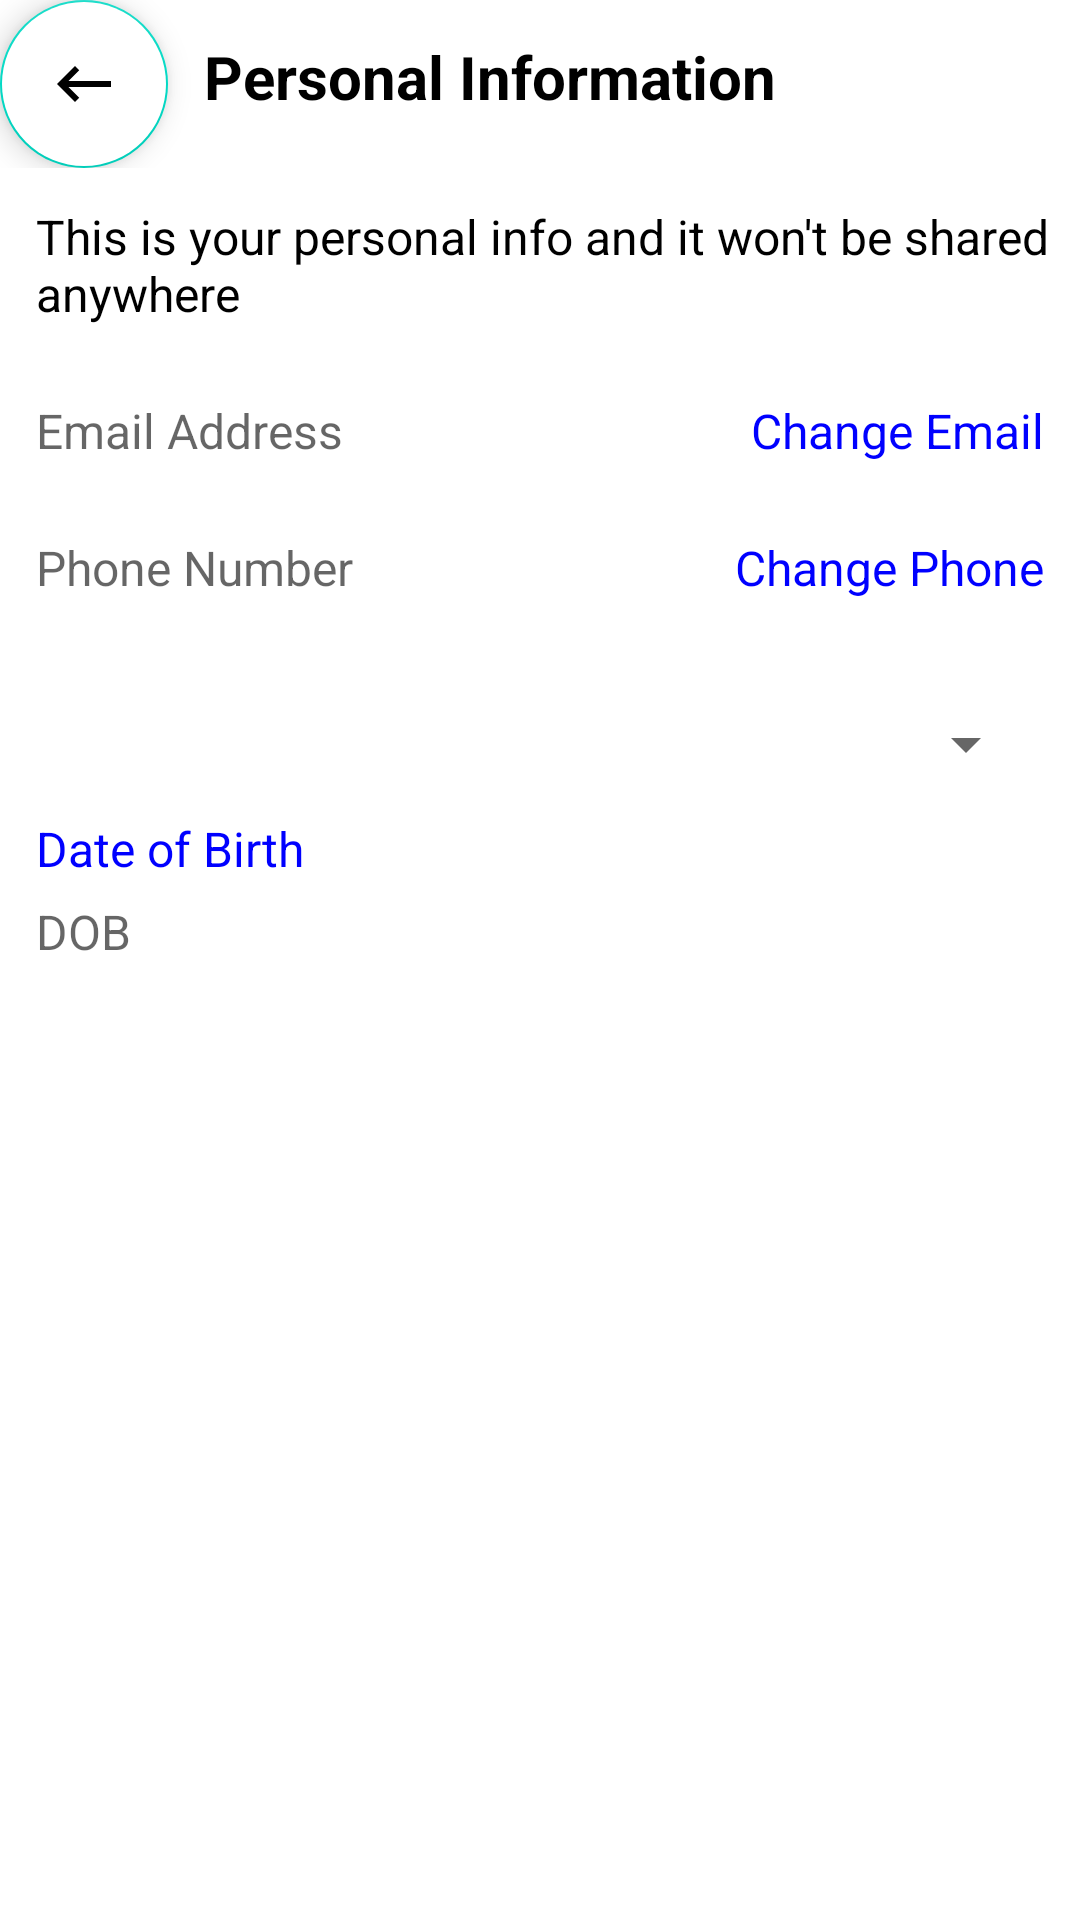

Where icons sit on this 1080 x 1920 app screen, as (x1, y1, x2, y2):
keyboard backspace: (0, 0, 168, 168)
